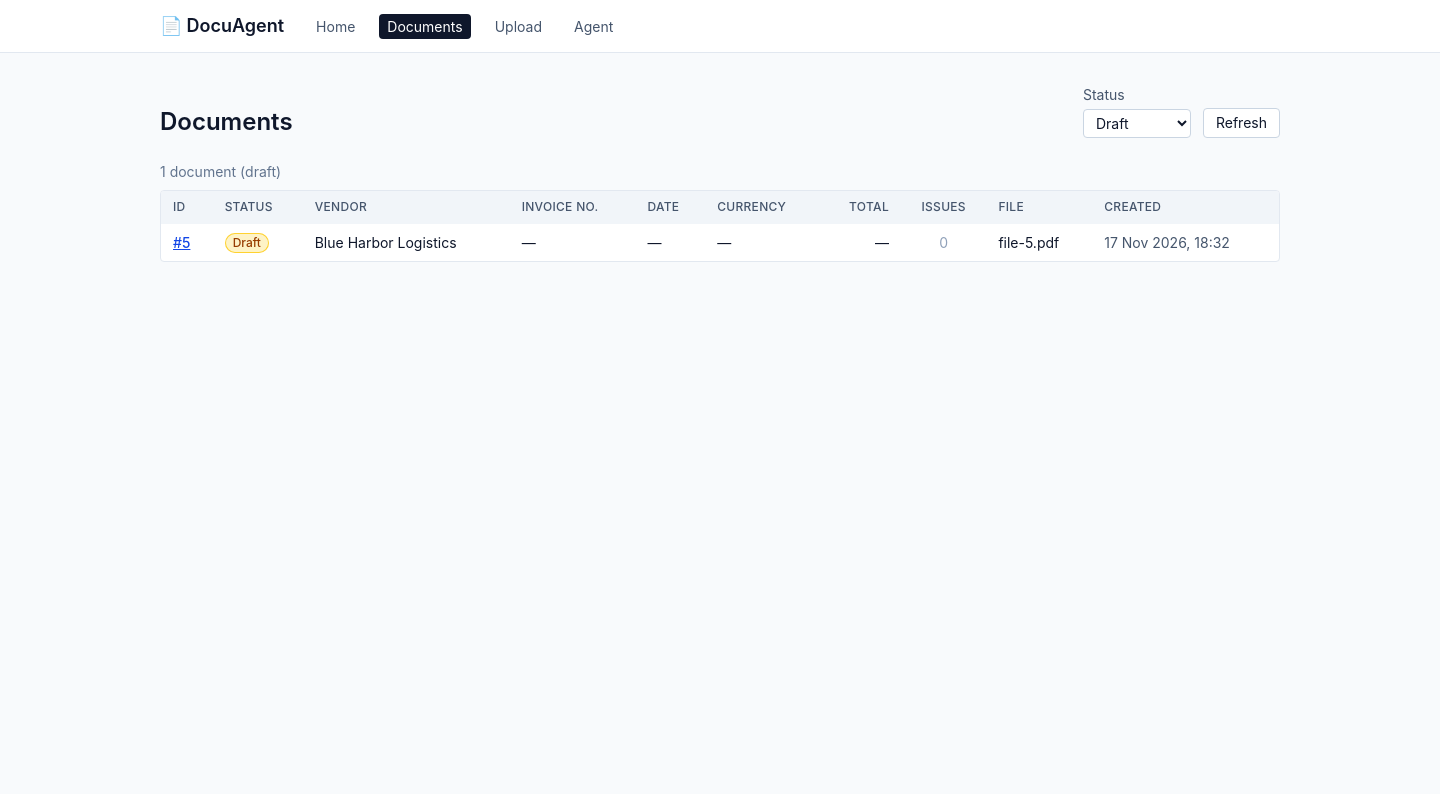
it: Document detail page › the Back link › keeps the list filter it came from
Step 1. Click the link named "Open document 5" → x=177, y=242, box top-left (173, 234), bottom-right (190, 250)
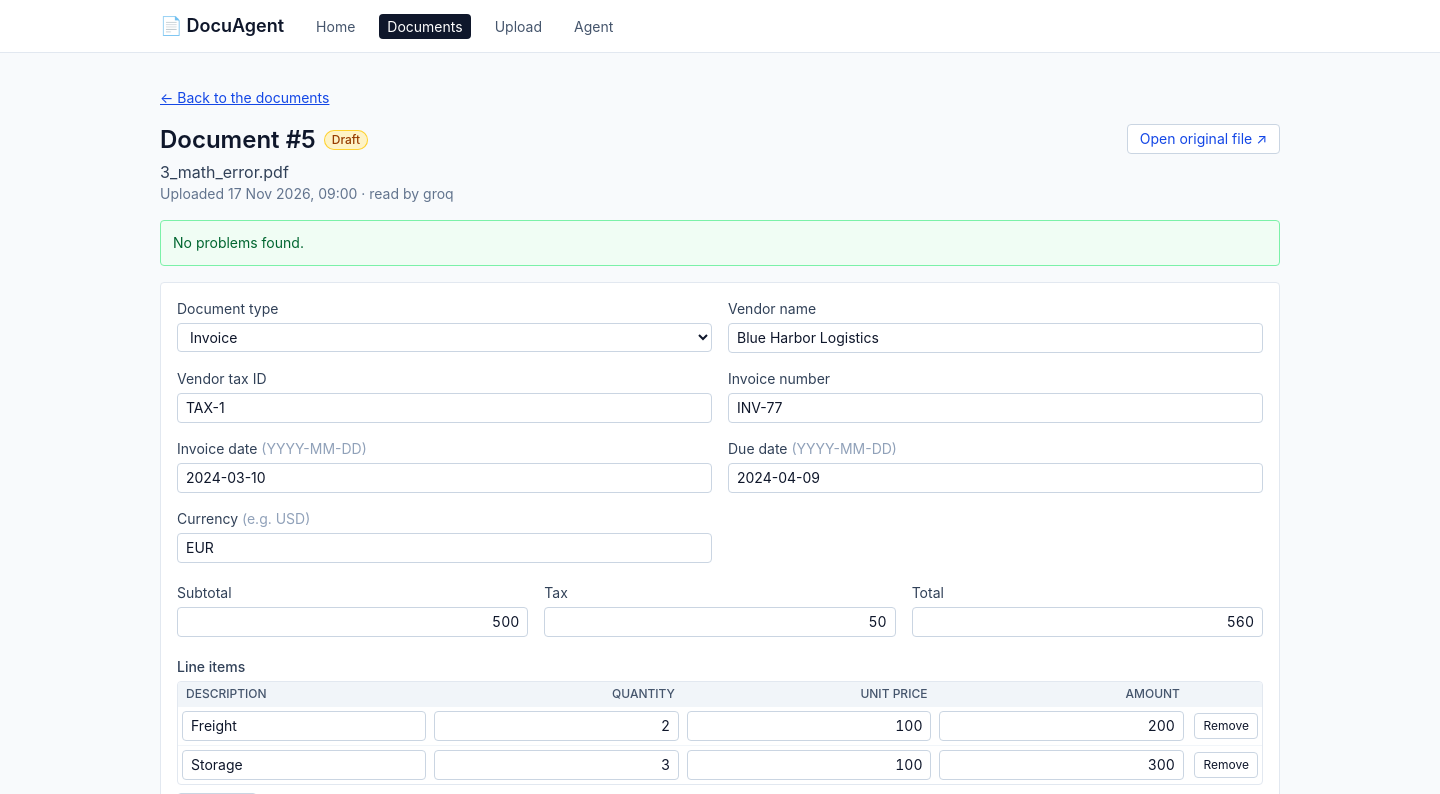
Step 2. Click the link "← Back to the documents" → x=245, y=98, box top-left (160, 88), bottom-right (330, 108)
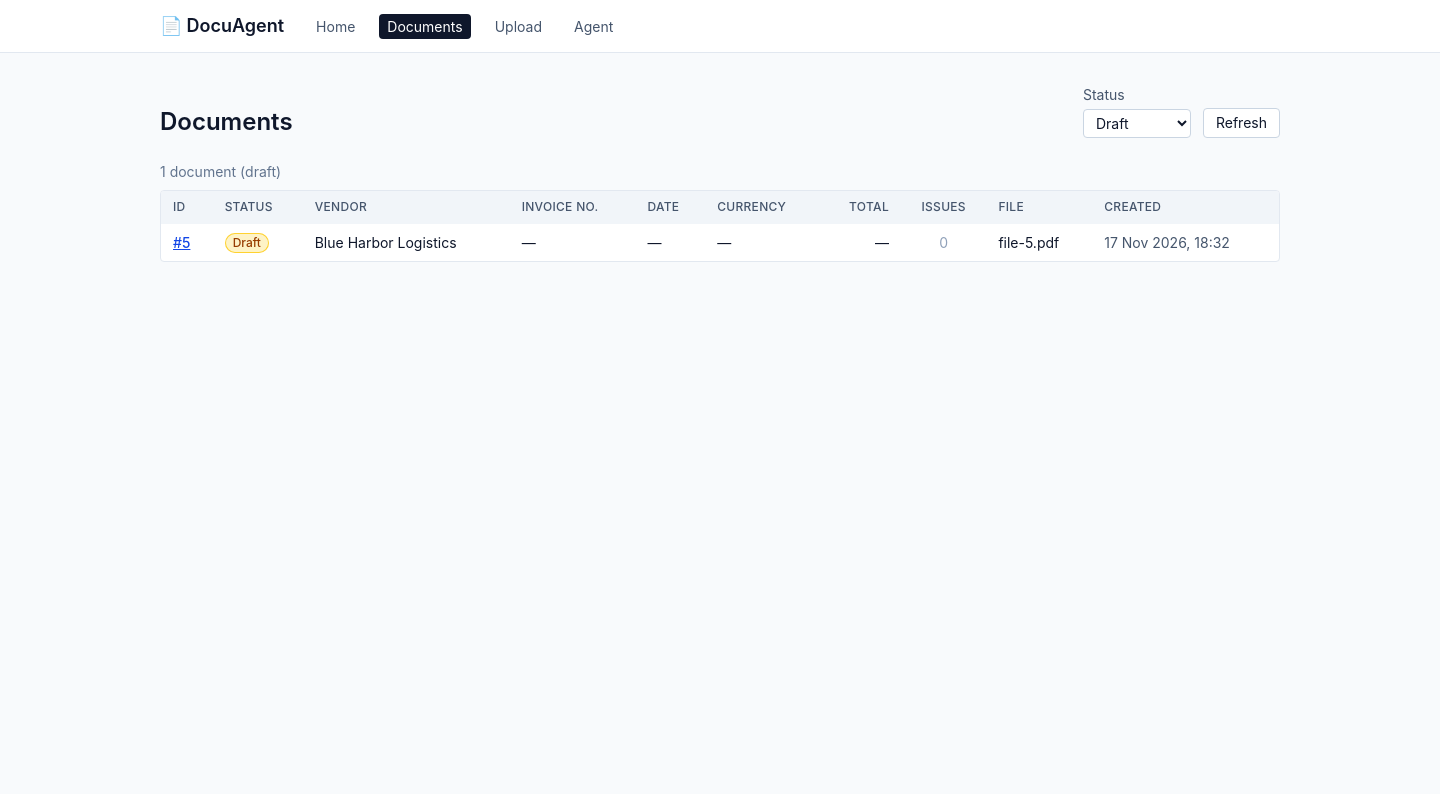
expect the dropdown labelled "Status" shows "Draft": met, box top-left (1083, 109), bottom-right (1191, 138)
